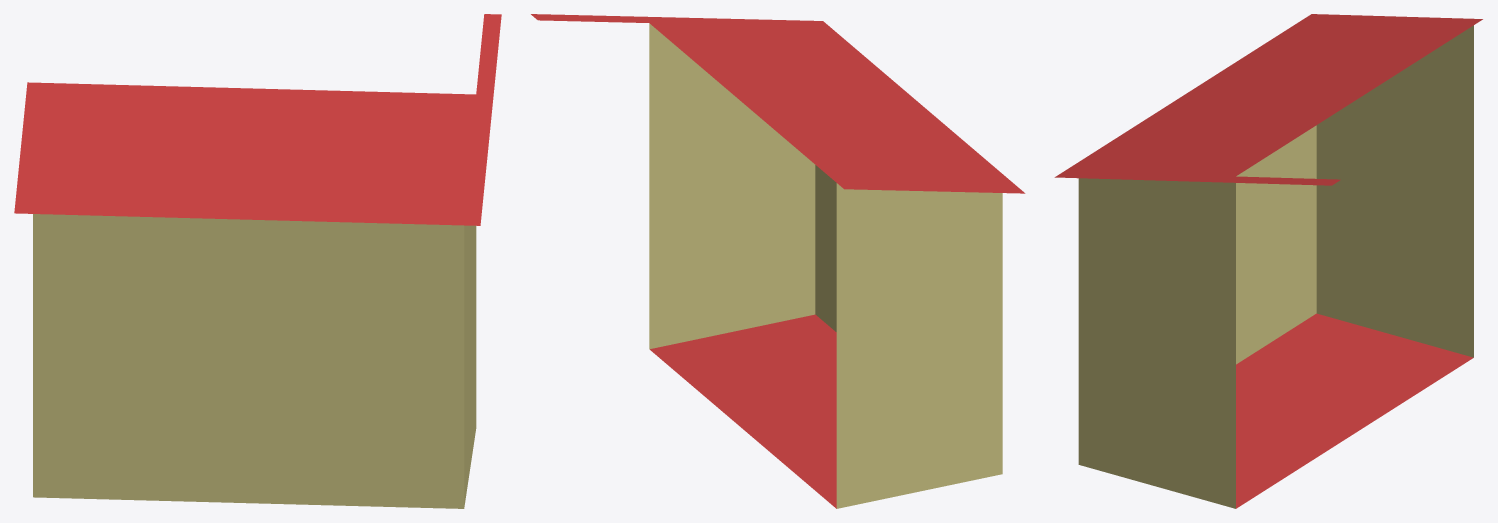
3 renders of one model, left to right at view 1: azimuth 30°, elevation 25°; view 2: azimuth 150°, elevation 25°; view 3: azimuth 270°, elevation 25°, orthographic. The views are drawn at different scales.
Size of the model in its own units: 16.42 by 12.33 by 11.39.
